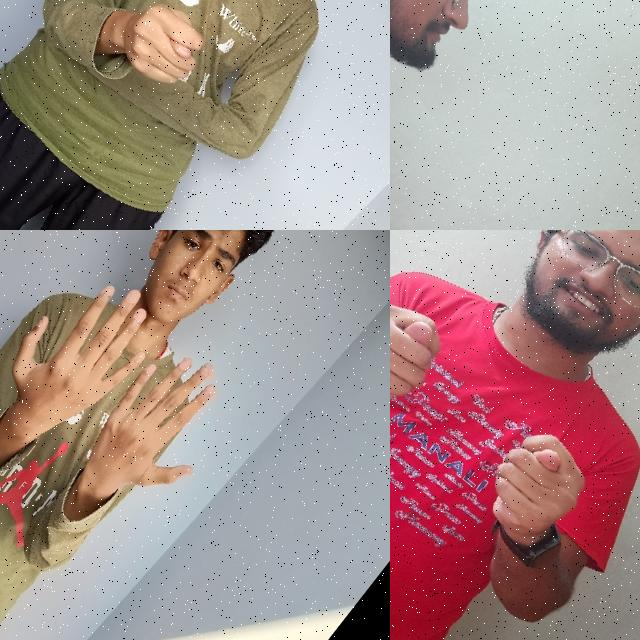Dulya: (450, 407, 614, 577), (390, 262, 472, 448), (93, 0, 227, 110)
Middle Finger: (427, 187, 557, 230)
Moutza: (52, 322, 256, 536), (0, 248, 182, 472)
